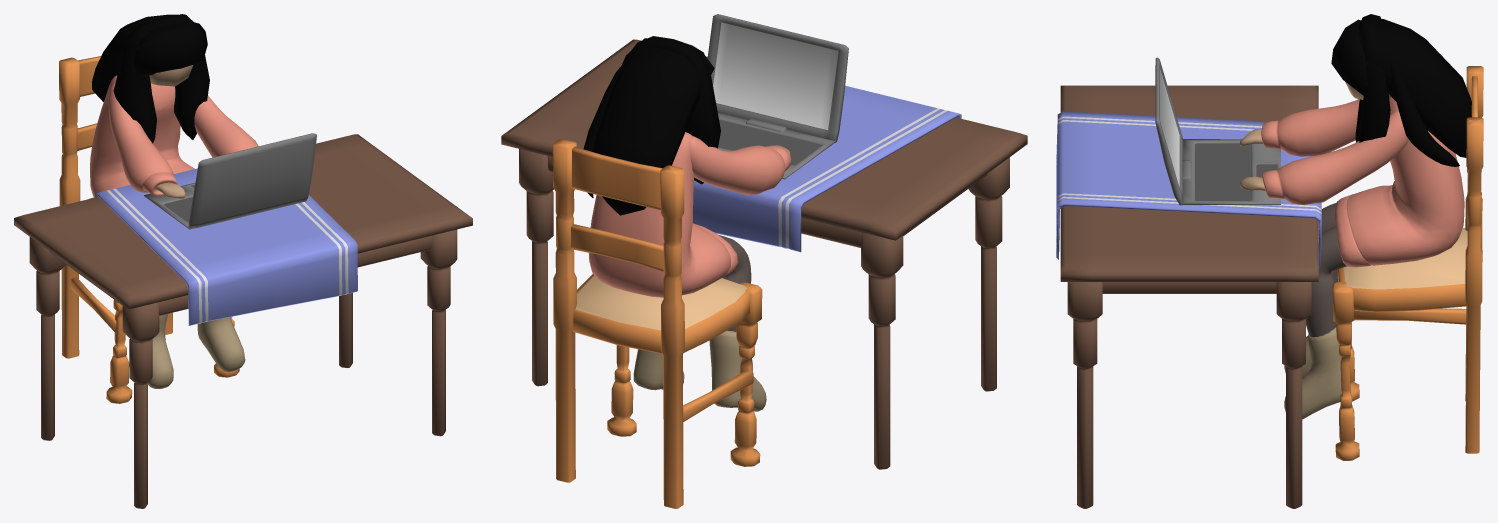
Rendered from dev.fbx.
3 renders of one model, left to right at view 1: azimuth 30°, elevation 25°; view 2: azimuth 150°, elevation 25°; view 3: azimuth 270°, elevation 25°, orthographic. The views are drawn at different scales.
Visible parts, largest first — view 1: devsetup; view 2: devsetup; view 3: devsetup.
Boxes of the visible parts, x1,y1,x2,y2 form: devsetup: (14,14,472,508); devsetup: (501,14,1027,508); devsetup: (1056,14,1483,508).
Bounding box in the file's own units: 179 × 180 × 172.
